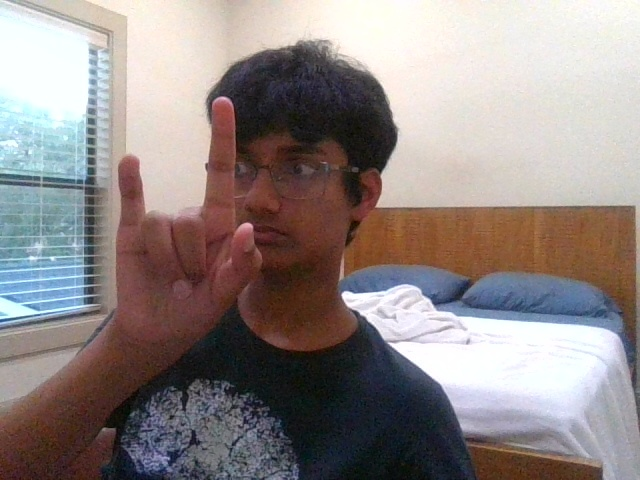ly: (116, 97, 262, 340)
